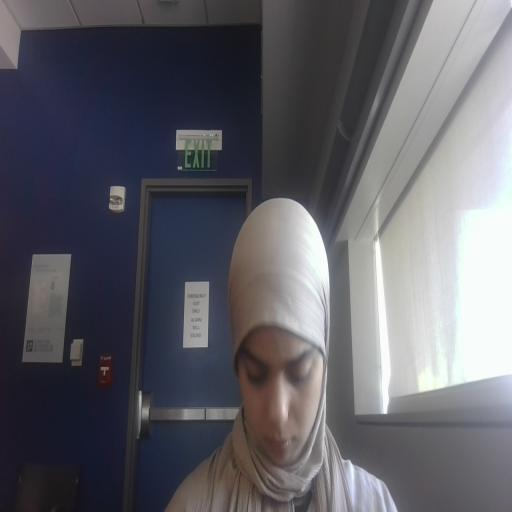lookingdownatphone: (238, 326, 324, 466)
